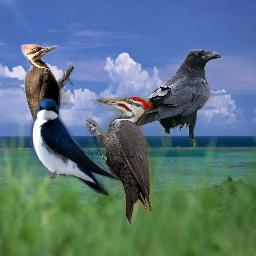Crow: (120, 49, 221, 147)
Swallow: (30, 98, 119, 196)
Woodpecker: (86, 97, 153, 228), (21, 44, 74, 163)
